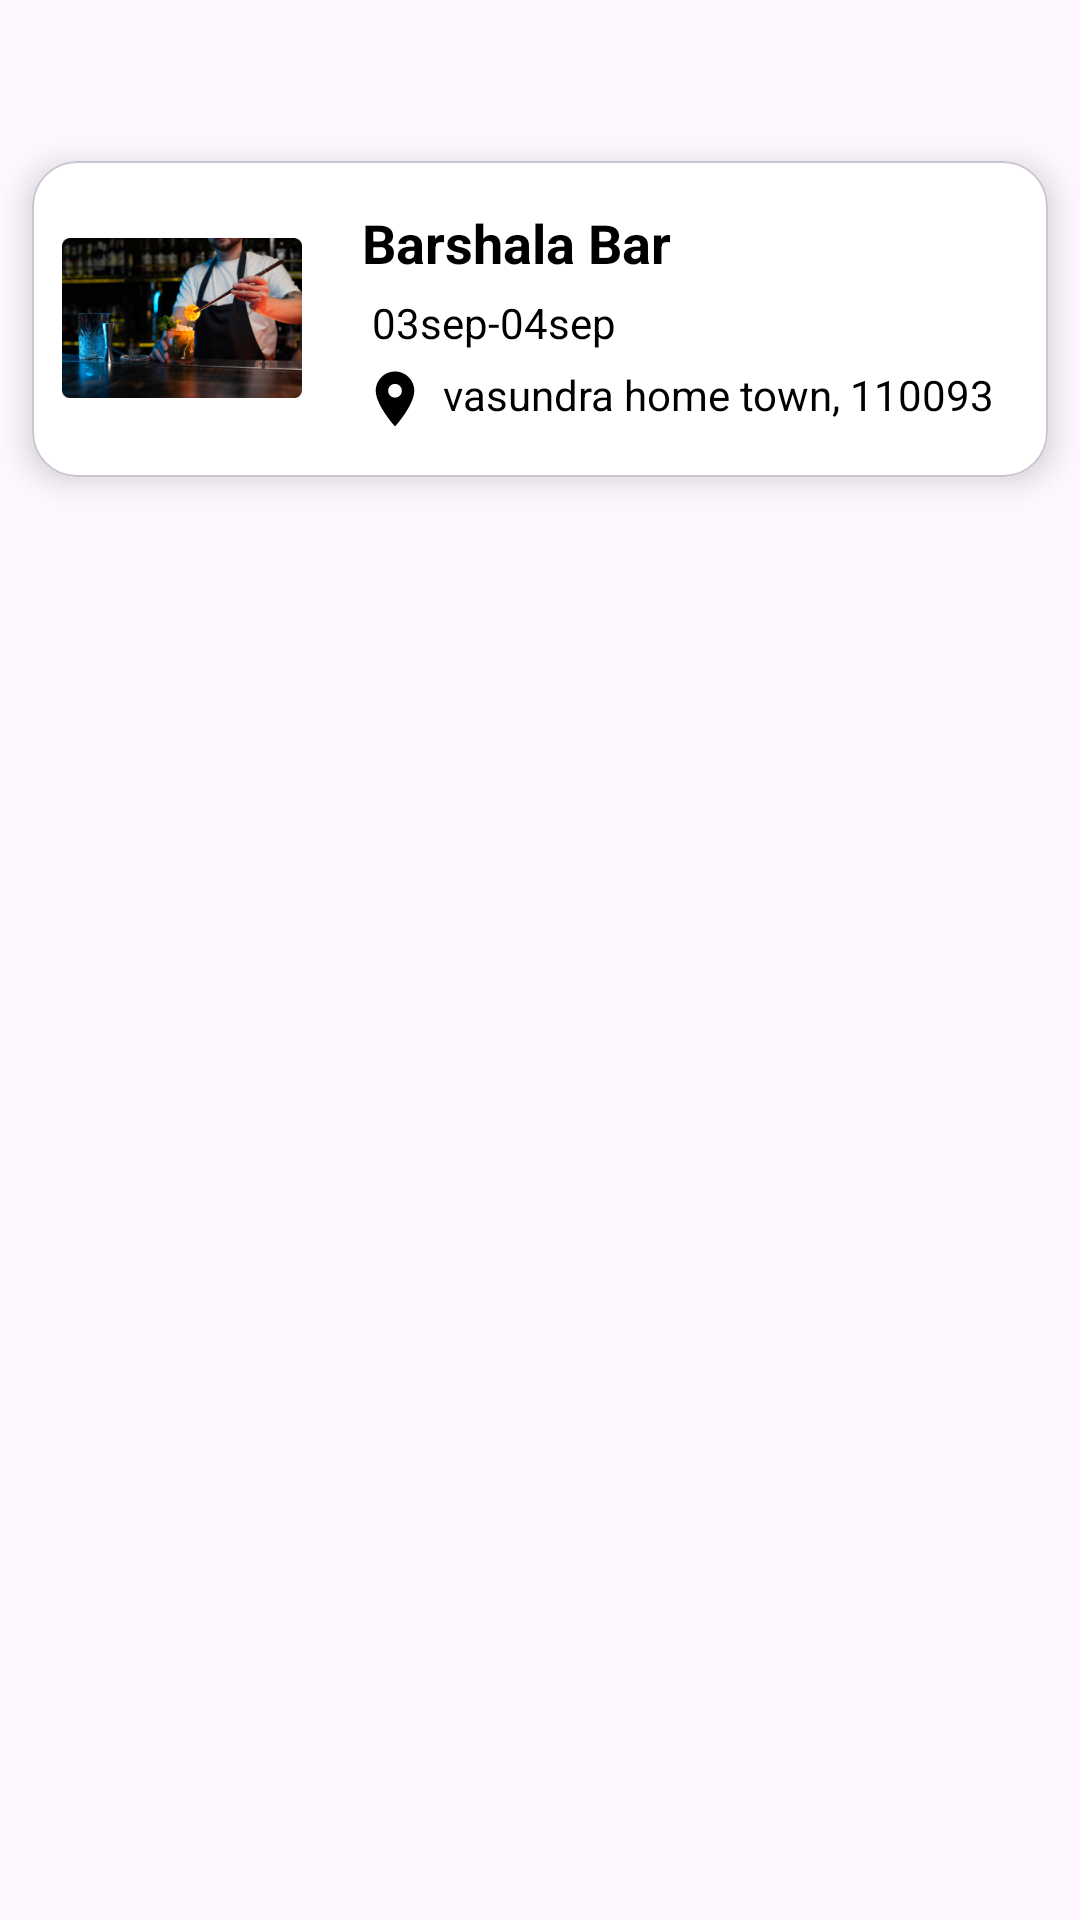

Icons on this 1080 x 1920 Android screen, each with the point to tap as (x=x, y=y):
bartender: (x=182, y=318)
locationicon: (x=395, y=398)
